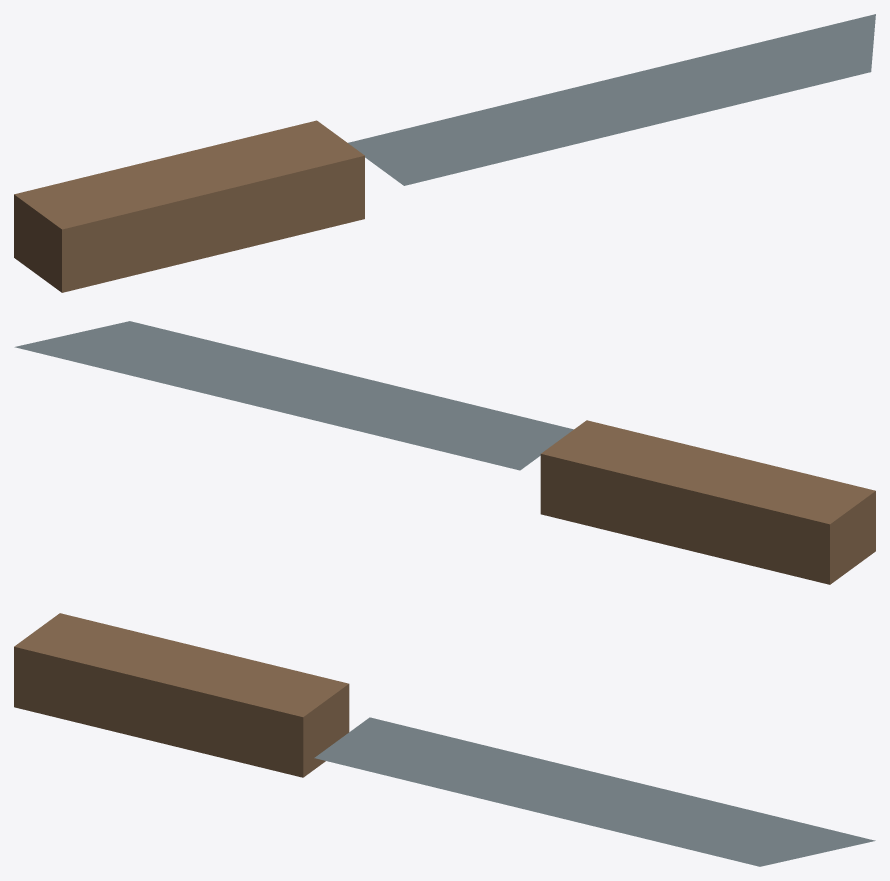
The model's file is L-10_bread_knife.glb.
3 renders of one model, top to bottom at view 1: azimuth 30°, elevation 25°; view 2: azimuth 150°, elevation 25°; view 3: azimuth 330°, elevation 25°, orthographic. The views are drawn at different scales.
Parts seen in each view (by area): view 1: L-10_bread_knife; view 2: L-10_bread_knife; view 3: L-10_bread_knife.
Part boxes in pixels (x1,y1,x2,y2): L-10_bread_knife: (14, 14, 875, 292); L-10_bread_knife: (14, 321, 875, 584); L-10_bread_knife: (14, 613, 875, 866).
Bounding box in the file's own units: 0.34 × 0.024 × 0.0425.
